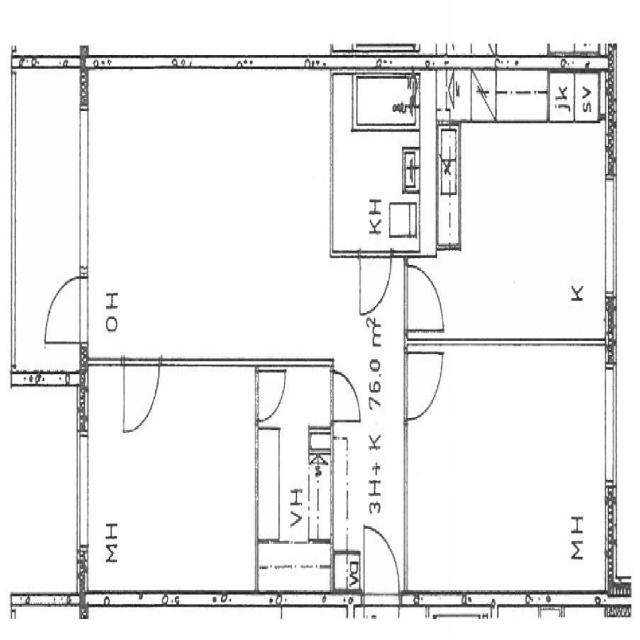door: (360, 521, 402, 609), (41, 269, 85, 350), (120, 354, 162, 438), (404, 258, 446, 333), (405, 347, 444, 423), (356, 248, 393, 318), (328, 364, 362, 428), (255, 364, 288, 426)
window: (73, 104, 94, 270), (599, 358, 622, 494), (71, 423, 93, 555), (601, 168, 621, 303)
zone: (88, 62, 336, 367), (426, 344, 614, 593), (85, 360, 259, 602), (436, 107, 612, 346), (9, 54, 84, 377), (1, 376, 83, 607), (329, 74, 424, 250), (256, 365, 333, 550), (466, 69, 568, 123), (254, 541, 333, 598), (548, 70, 601, 121), (333, 549, 362, 595)
